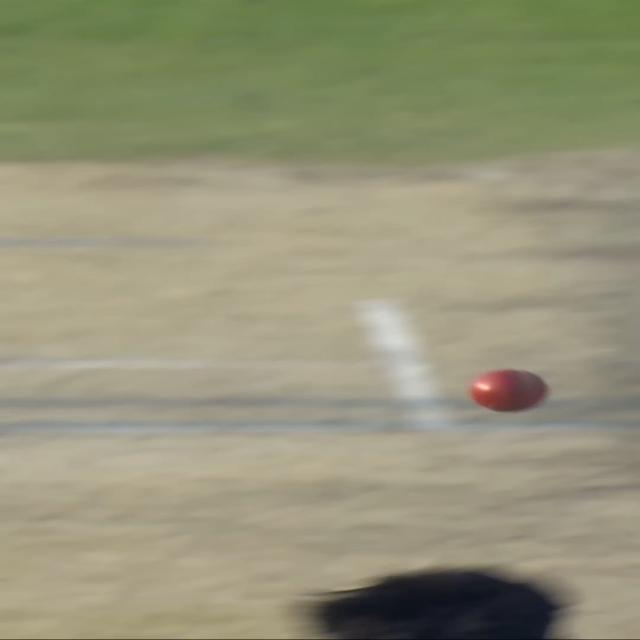Cricket ball: (464, 366, 555, 415)
